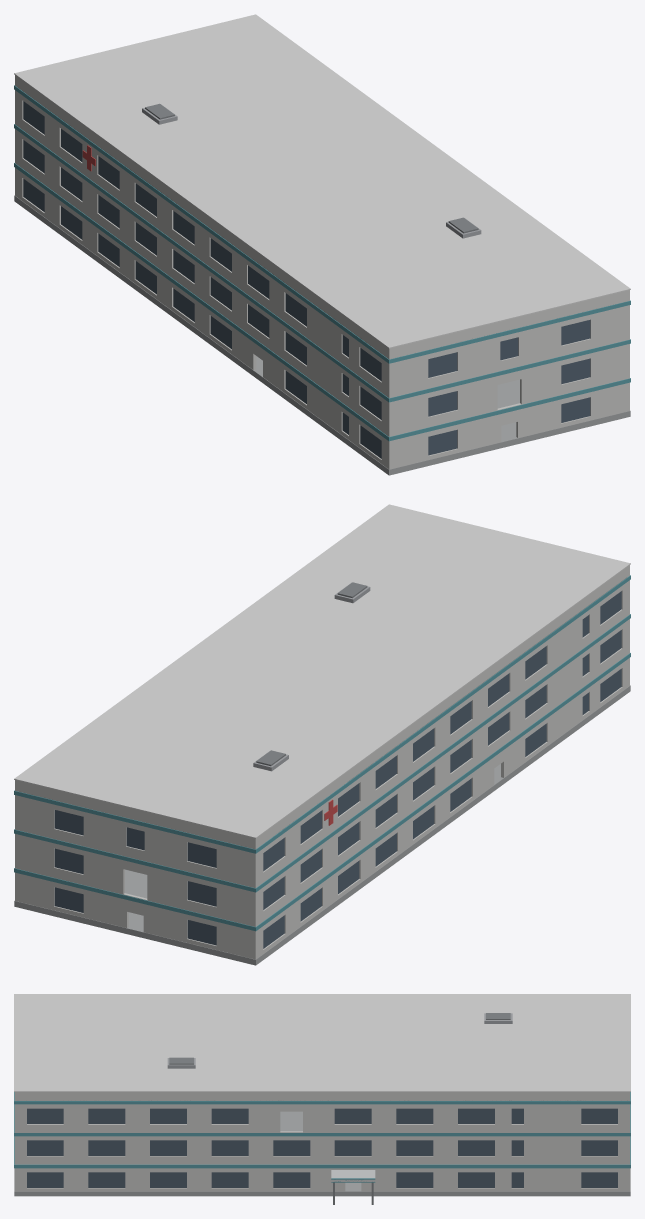
The model's file is hosp-west.mega-v1.lod1.glb.
3 renders of one model, top to bottom at view 1: azimuth 30°, elevation 25°; view 2: azimuth 150°, elevation 25°; view 3: azimuth 270°, elevation 25°, orthographic. The views are drawn at different scales.
Parts seen in each view (by area): view 1: hosp-west; view 2: hosp-west; view 3: hosp-west.
Part boxes in pixels (x1,y1,x2,y2): hosp-west: (14, 14, 630, 475); hosp-west: (14, 504, 630, 965); hosp-west: (14, 994, 630, 1204).
Size of the model in its own units: 28.68 by 13.75 by 70.12.
